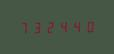four: (70, 19, 82, 33), (57, 20, 69, 33)
seven: (17, 20, 29, 34)
three: (30, 20, 42, 34)
two: (44, 20, 56, 34)
zero: (83, 19, 95, 33)
